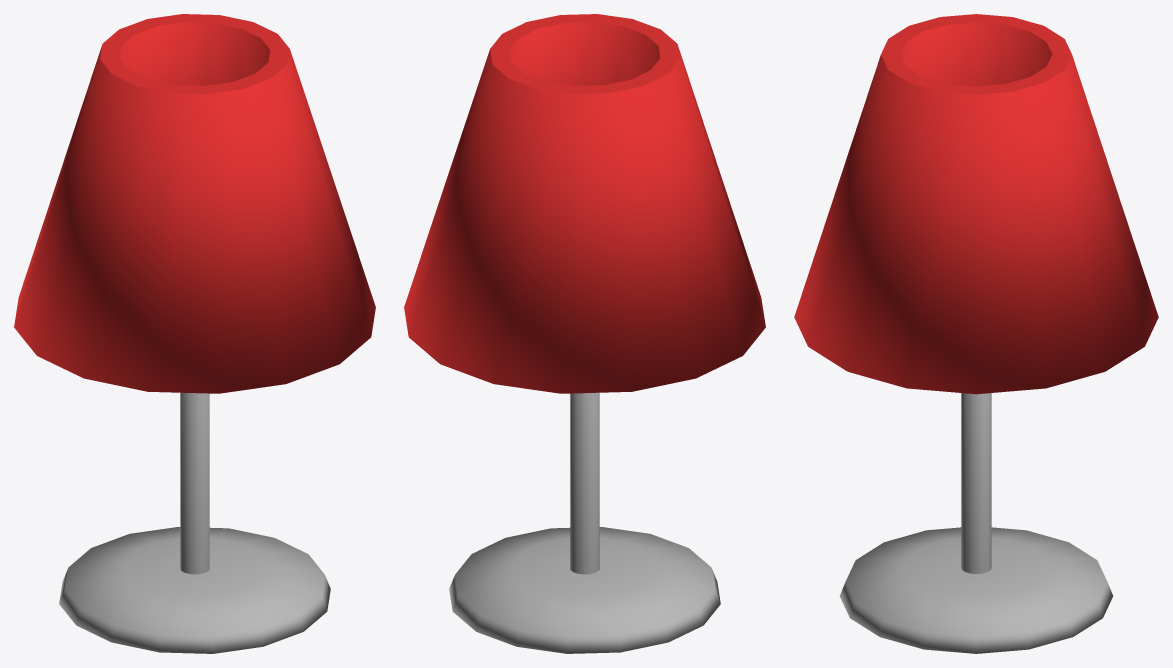
Rendered from table_lamp.glb.
3 renders of one model, left to right at view 1: azimuth 30°, elevation 25°; view 2: azimuth 150°, elevation 25°; view 3: azimuth 270°, elevation 25°, orthographic.
Visible parts, largest first — view 1: Table Lamp 1; view 2: Table Lamp 1; view 3: Table Lamp 1.
Part boxes in pixels (x1=…): Table Lamp 1: x1=14, y1=14, x2=375, y2=653; Table Lamp 1: x1=404, y1=14, x2=765, y2=653; Table Lamp 1: x1=794, y1=14, x2=1158, y2=653.
Size of the model in its own units: 0.2113 by 0.3465 by 0.2113.
1 material, 1 textured.
